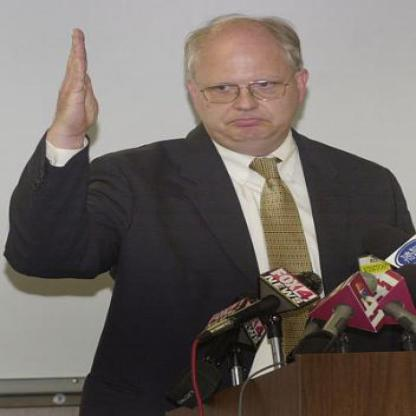face: (193, 22, 301, 148)
